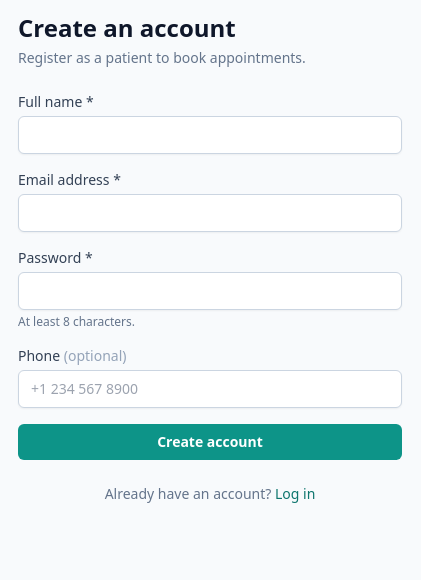
Test: RegisterPage › shows field-level validation errors from the server
Step 1. Type "New Patient" into the field labelled "Full name *" → {"x": 210, "y": 135}, box [18,116,402,154]
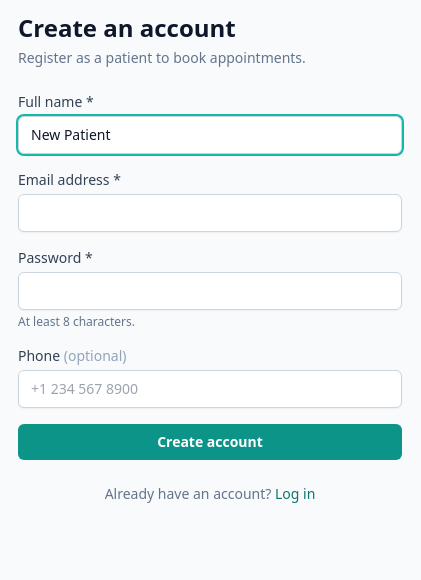
Step 2. Type "newuser@example.com" into the field labelled "Email address *" → {"x": 210, "y": 213}, box [18,194,402,232]
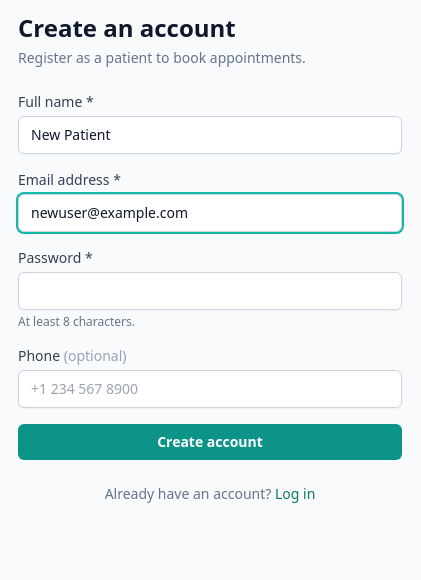
Step 3. Type "password123" into the password field labelled "Password *" → {"x": 210, "y": 291}, box [18,272,402,310]
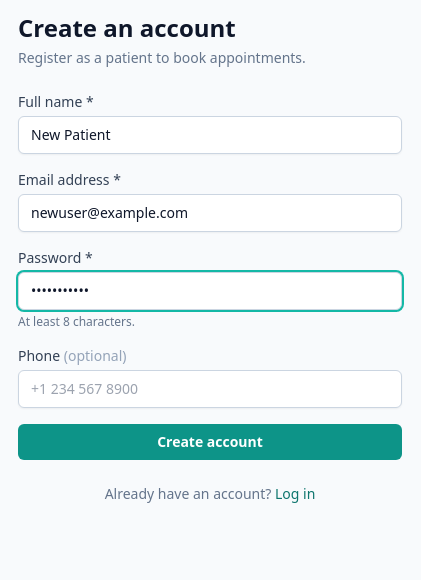
Step 4. Click the button "Create account" → {"x": 210, "y": 442}, box [18,424,402,460]
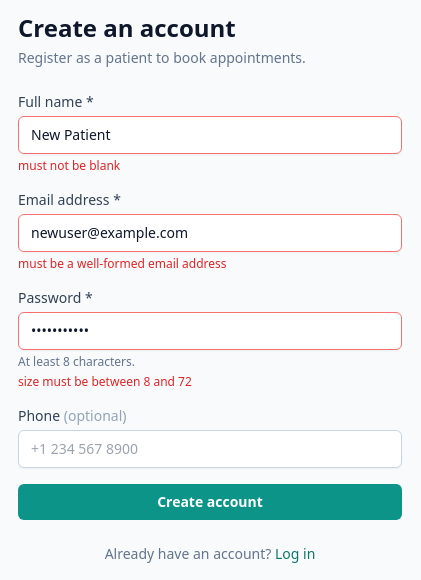
Expected: the text "must be a well-formed email address" is shown, [18,255,227,272]
Expected: the text "size must be between 8 and 72" is shown, [18,373,192,390]
